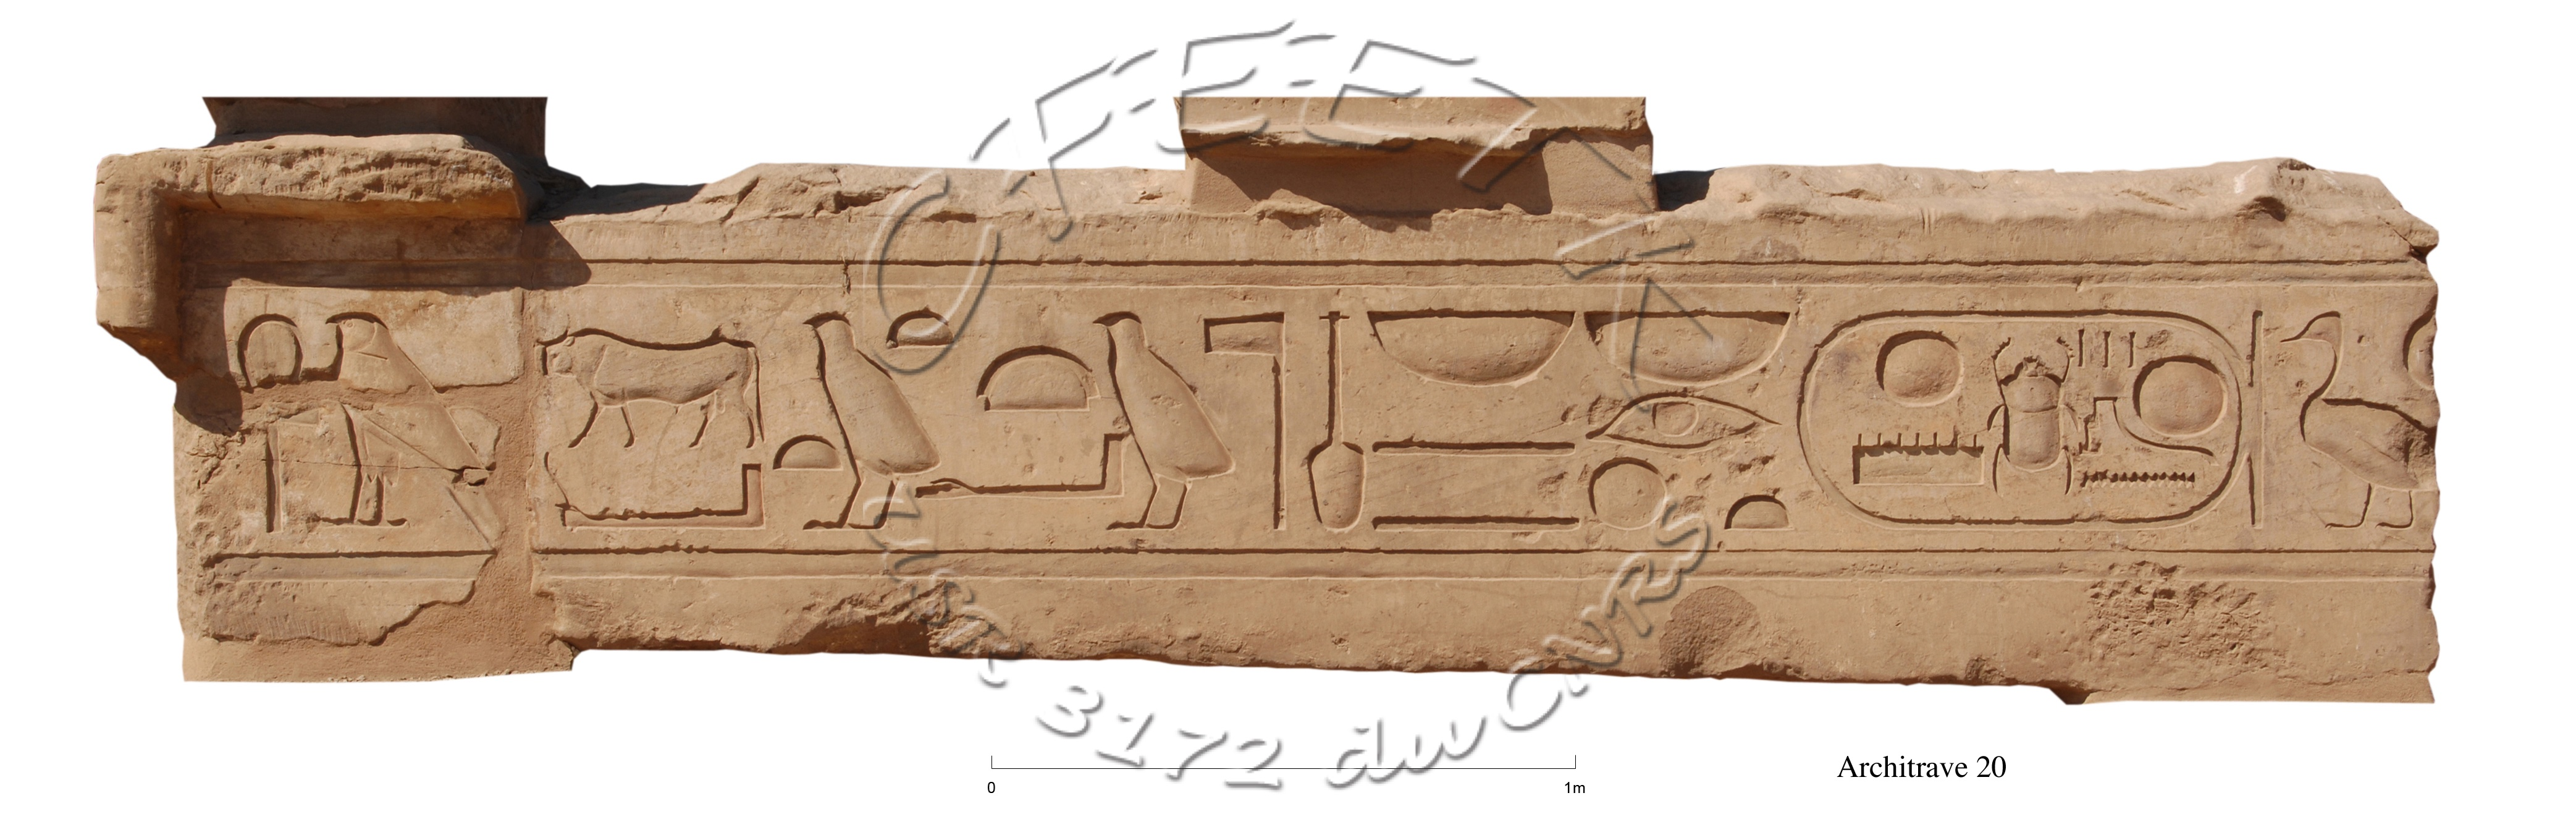D4: (1574, 353, 1786, 501)
F35: (1283, 306, 1388, 549)
G43: (1076, 299, 1242, 572), (787, 296, 943, 557)
N35: (2068, 444, 2210, 518)
V30: (1342, 286, 1585, 413), (1574, 276, 1799, 408)
